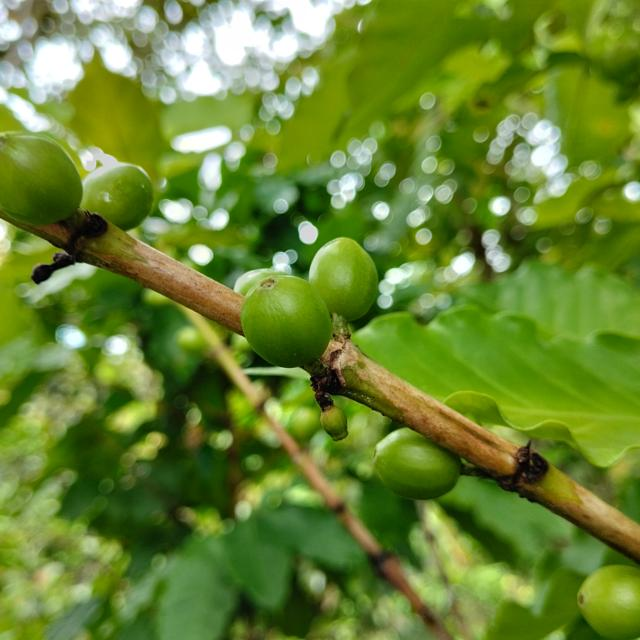green: (240, 275, 332, 368), (0, 132, 82, 225), (373, 428, 462, 501), (309, 237, 378, 321), (309, 237, 378, 321), (79, 162, 153, 230), (578, 566, 640, 640)
